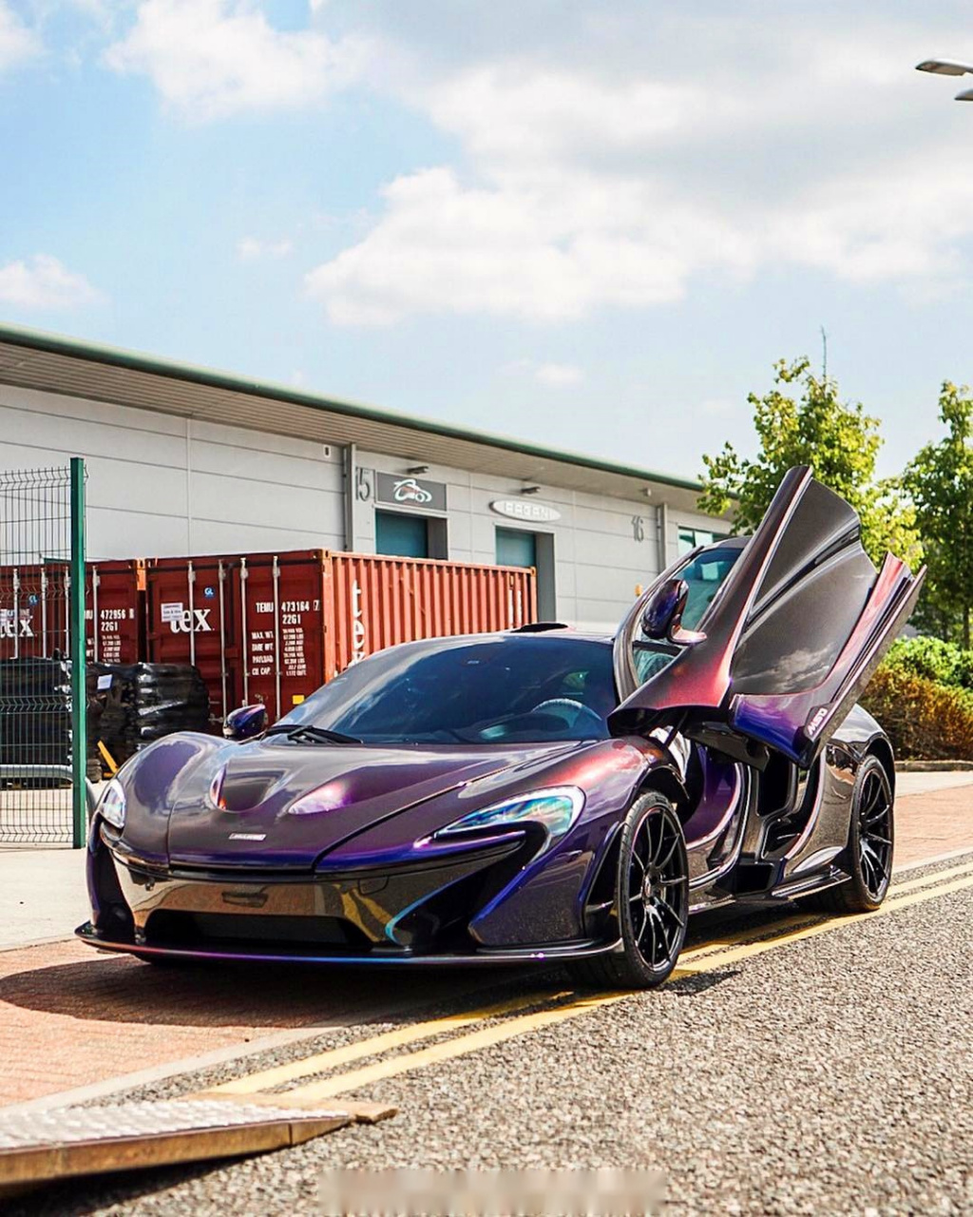other: (92, 595, 943, 999)
